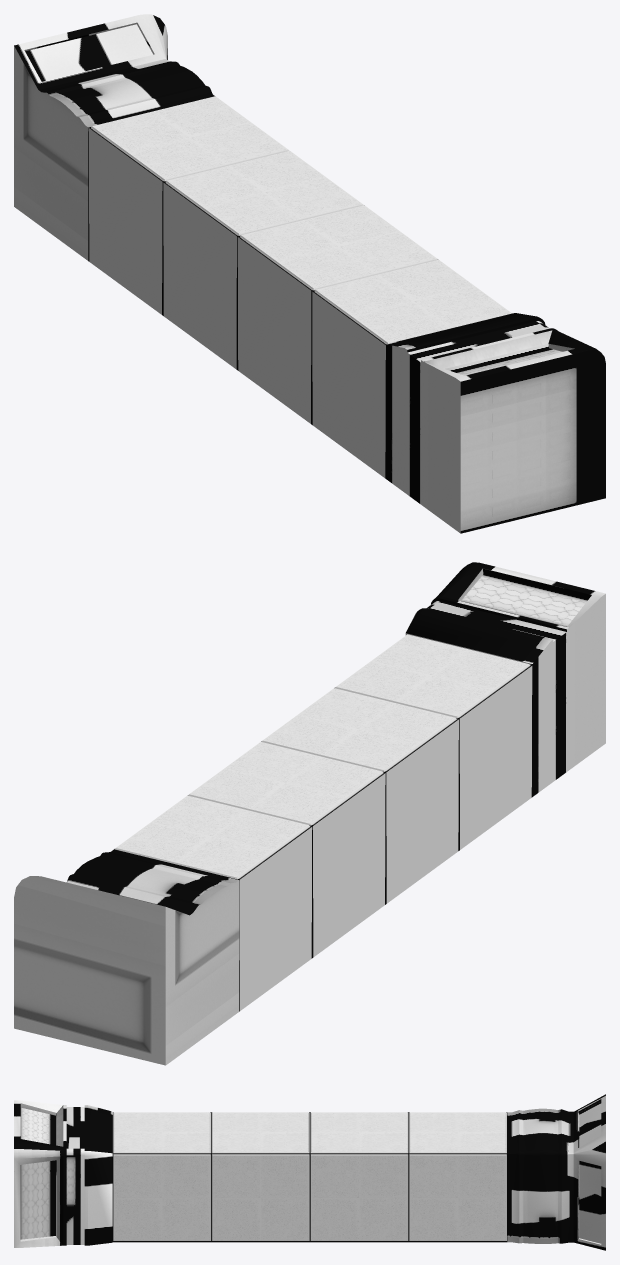
The model's file is WallCornerOut_4.fbx.
The picture shows the model from 3 angles, top to bottom: view 1: azimuth 30°, elevation 25°; view 2: azimuth 150°, elevation 25°; view 3: azimuth 270°, elevation 25°; orthographic projection. The views are drawn at different scales.
Visible parts, largest first — view 1: WallCornerOut_4; view 2: WallCornerOut_4; view 3: WallCornerOut_4.
Part boxes in pixels (<box>): WallCornerOut_4: <box>14,14,605,533</box>; WallCornerOut_4: <box>14,562,605,1065</box>; WallCornerOut_4: <box>14,1094,605,1250</box>.
Size of the model in its own units: 1.19 by 1.19 by 6.
